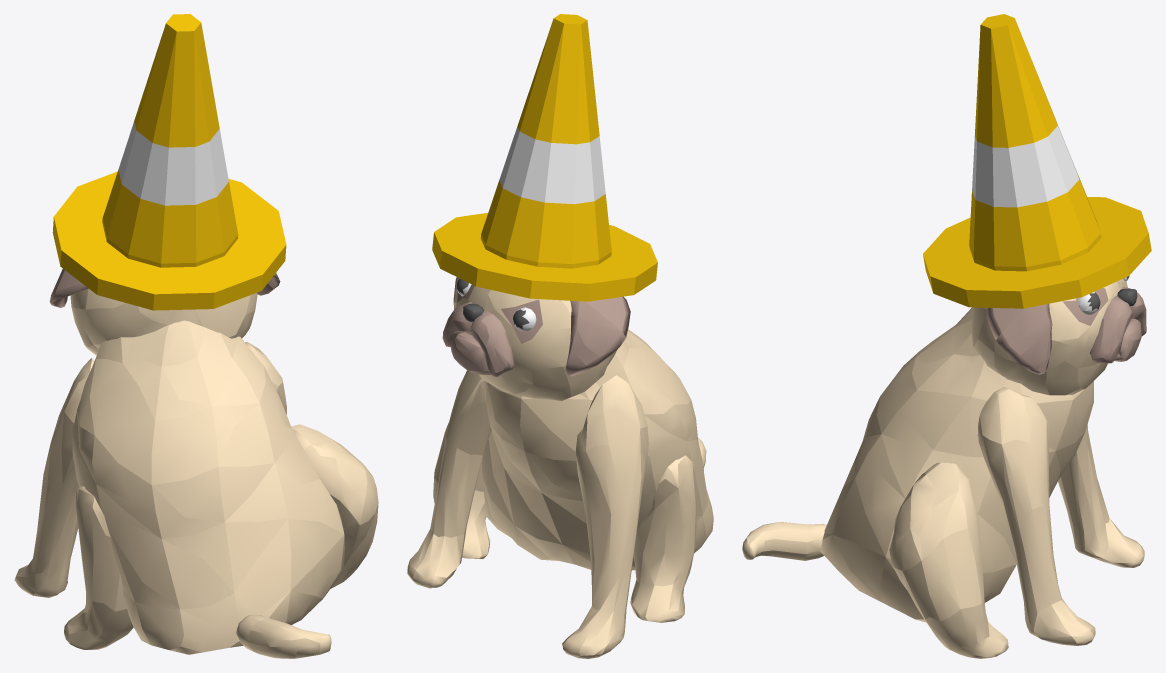
The model's file is DogwCone.fbx.
The picture shows the model from 3 angles, left to right: view 1: azimuth 30°, elevation 25°; view 2: azimuth 150°, elevation 25°; view 3: azimuth 270°, elevation 25°; orthographic projection. The views are drawn at different scales.
Visible parts, largest first — view 1: group_958270361; view 2: group_958270361; view 3: group_958270361.
Part boxes in pixels (bbox=[...]): group_958270361: bbox=[14, 14, 378, 658]; group_958270361: bbox=[407, 14, 713, 658]; group_958270361: bbox=[742, 14, 1151, 658].
Bounding box in the file's own units: 32.49 × 67.02 × 42.46.
